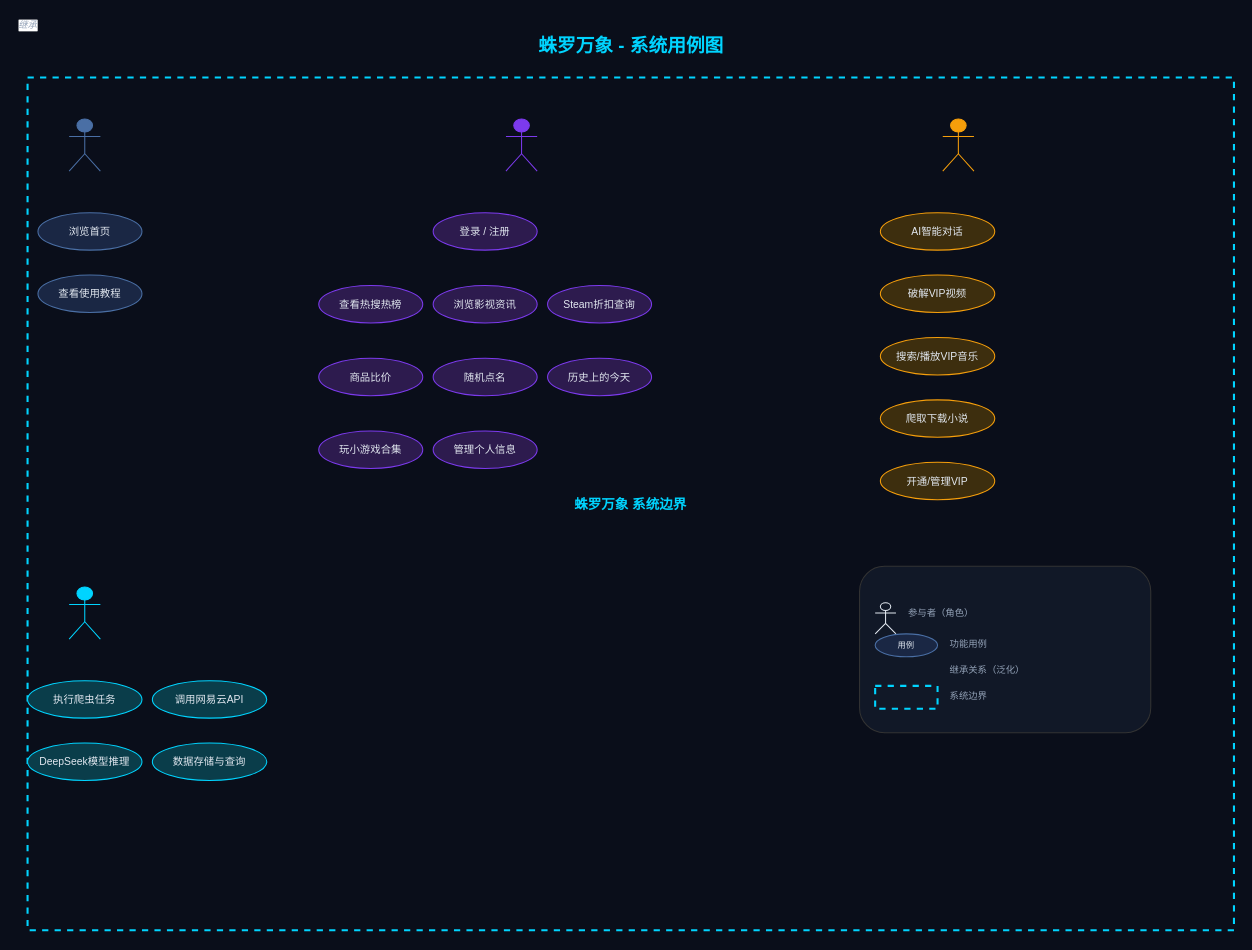
This 1252x950 diagram has some shape labels left out. Each missing label, with the box of its shape:
VIP用户: (942, 118, 974, 171)
图例: (859, 565, 1151, 733)
普通用户: (505, 118, 537, 171)
系统 （后端爬虫引擎）: (68, 586, 100, 639)
访客: (68, 118, 100, 171)
